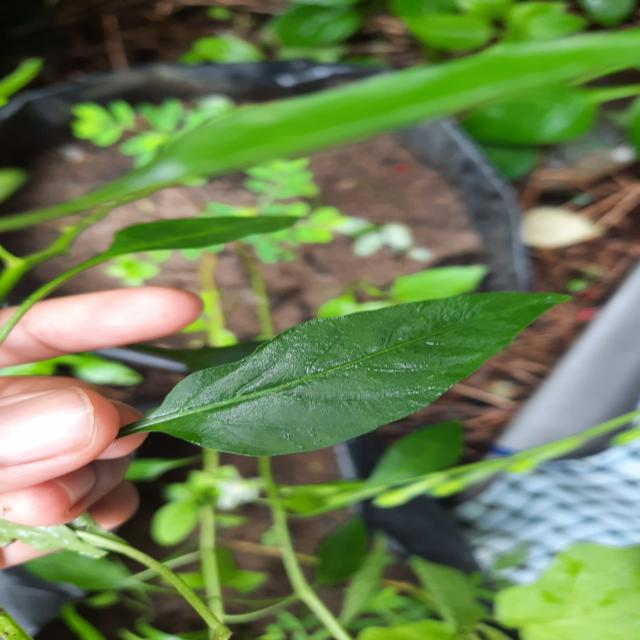sehat: (128, 275, 575, 482)
